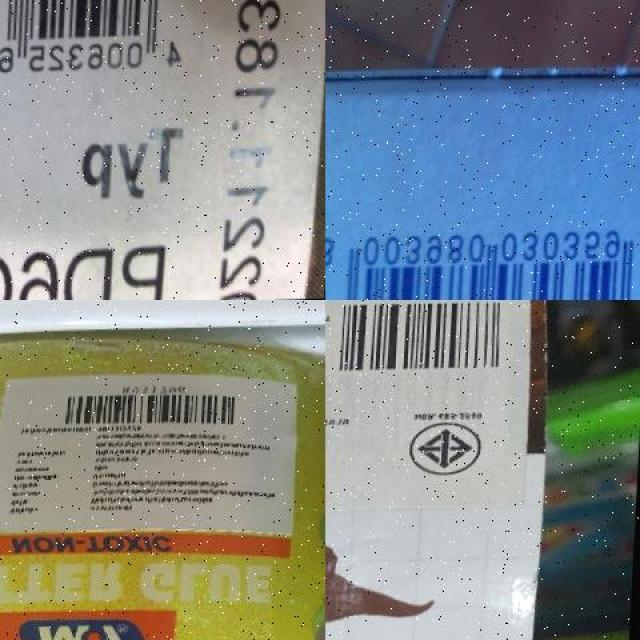Barcode: (325, 211, 640, 300), (0, 0, 208, 109), (331, 300, 516, 380), (59, 386, 248, 433)
